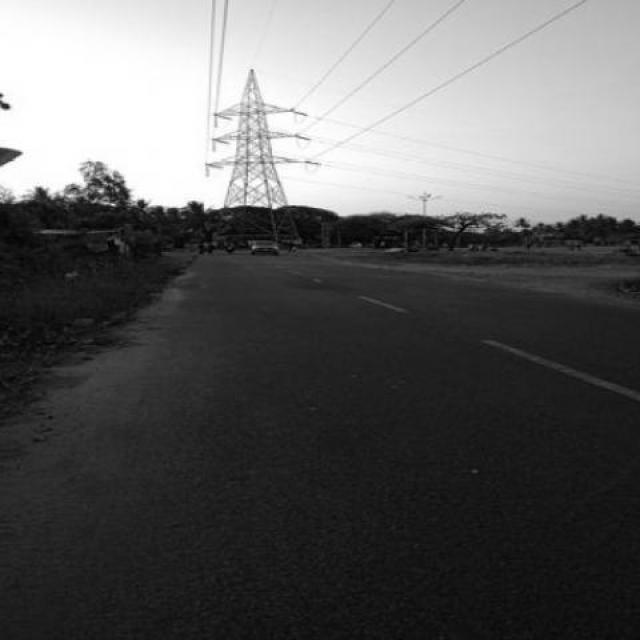Unmarked Bump: (189, 248, 304, 252)
